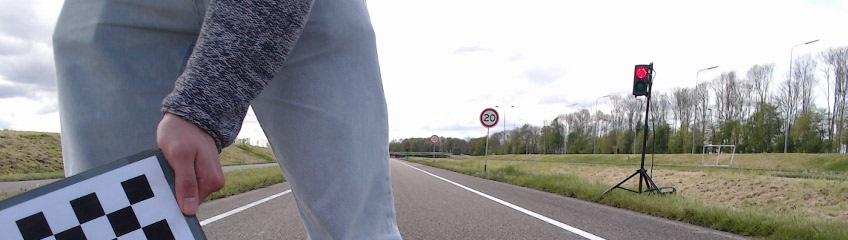Speed-limit-10km-h-: (430, 135, 439, 144)
Speed-limit-20km-h-: (480, 108, 499, 127)
TrafficLight-red: (633, 65, 650, 96)
